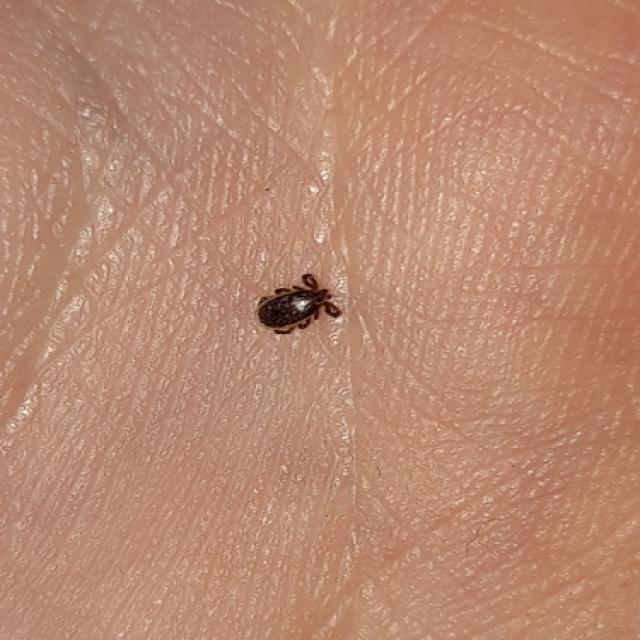Ixodes Ricinus-M: (254, 274, 348, 338)
